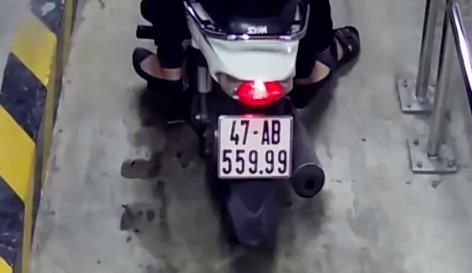lisence: (218, 115, 294, 178)
